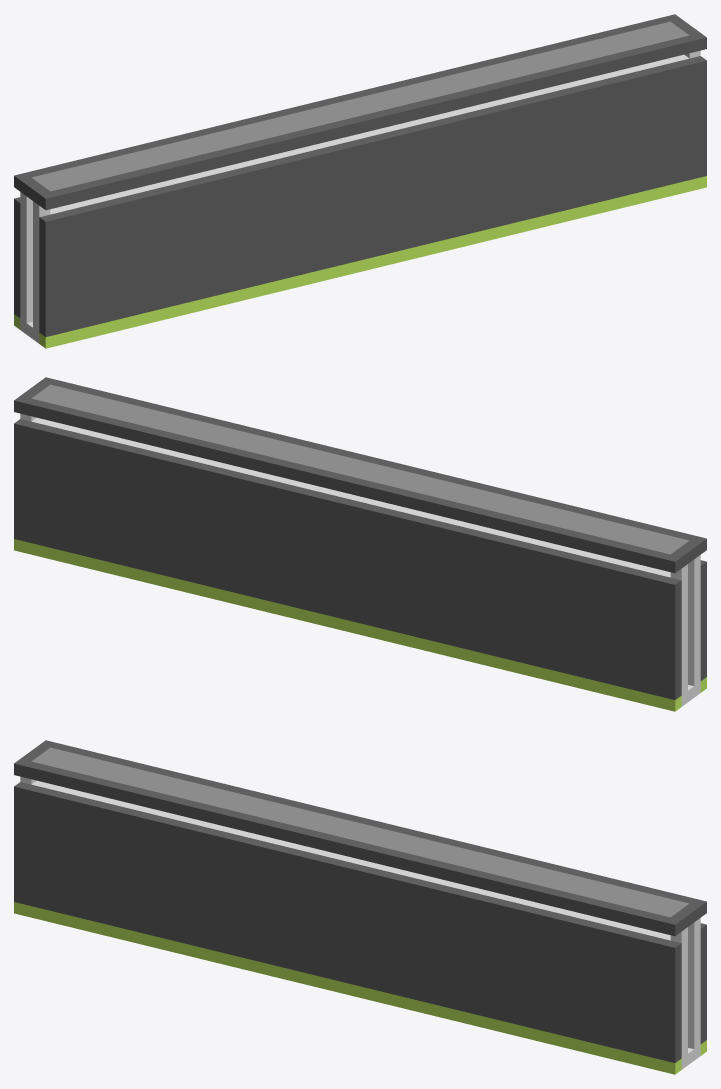
Rendered from Computer Half Wall.obj.
3 renders of one model, top to bottom at view 1: azimuth 30°, elevation 25°; view 2: azimuth 150°, elevation 25°; view 3: azimuth 330°, elevation 25°, orthographic.
Bounding box in the file's own units: 60 × 13 × 5.
Materials: 1 (1 with a texture image).
